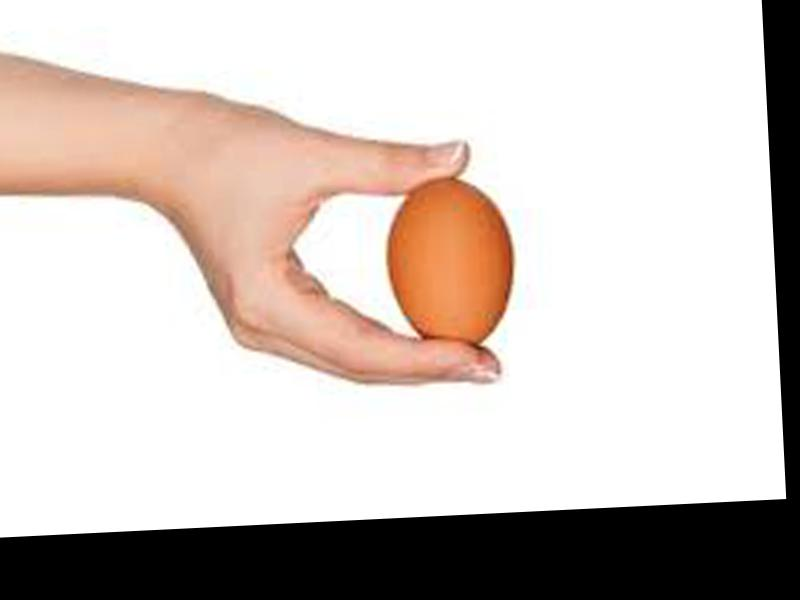Eggs: (385, 173, 517, 359)
